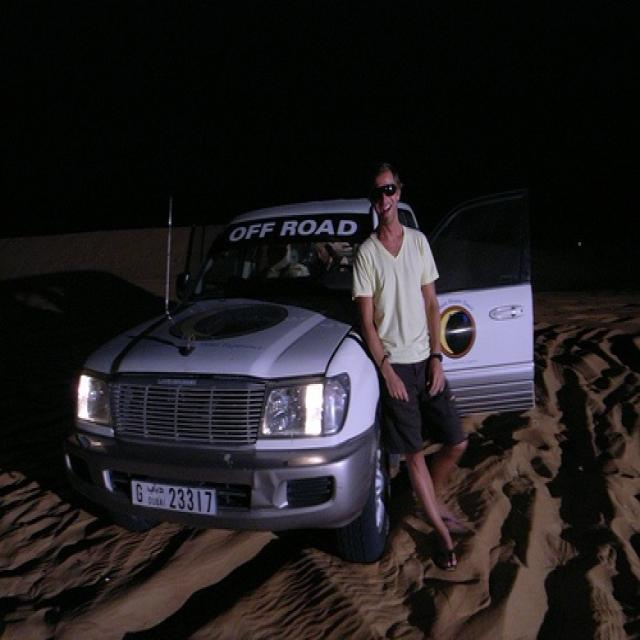car: (63, 174, 539, 560)
